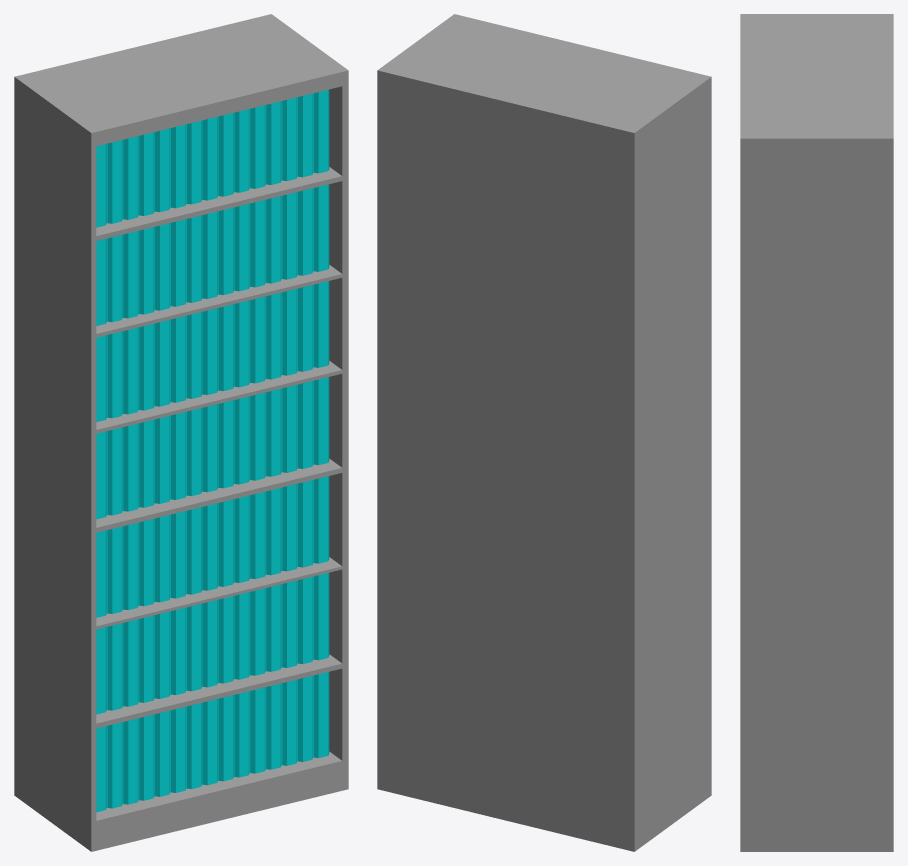
Rendered from BookshelfSingle.fbx.
The picture shows the model from 3 angles, left to right: view 1: azimuth 30°, elevation 25°; view 2: azimuth 150°, elevation 25°; view 3: azimuth 270°, elevation 25°; orthographic projection.
Parts seen in each view (by area): view 1: Booksforshelf_mesh7, BookshelfSingle; view 2: BookshelfSingle; view 3: BookshelfSingle.
Part boxes in pixels (x1,y1,x2,y2): Booksforshelf_mesh7: [96, 89, 329, 812]; BookshelfSingle: [14, 14, 348, 851]; BookshelfSingle: [377, 14, 711, 851]; BookshelfSingle: [740, 14, 893, 851].
Bounding box in the file's own units: 74.39 × 199 × 38.63.
